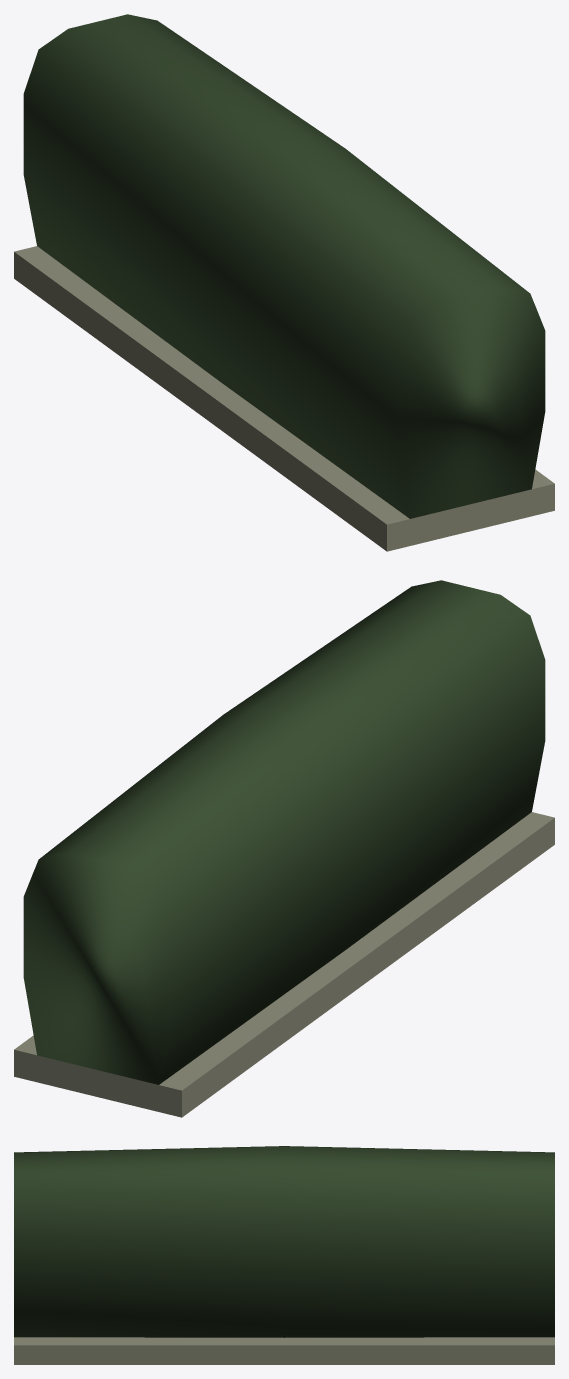
The model's file is hedge.fbx.
3 renders of one model, top to bottom at view 1: azimuth 30°, elevation 25°; view 2: azimuth 150°, elevation 25°; view 3: azimuth 270°, elevation 25°, orthographic. The views are drawn at different scales.
Visible parts, largest first — view 1: hedge; view 2: hedge; view 3: hedge.
Part boxes in pixels (<box>): hedge: <box>14,14,554,551</box>; hedge: <box>14,580,554,1117</box>; hedge: <box>14,1146,554,1364</box>.
Bounding box in the file's own units: 0.52 × 0.725 × 2.
